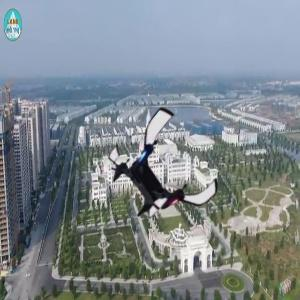drone: (108, 116, 223, 231)
